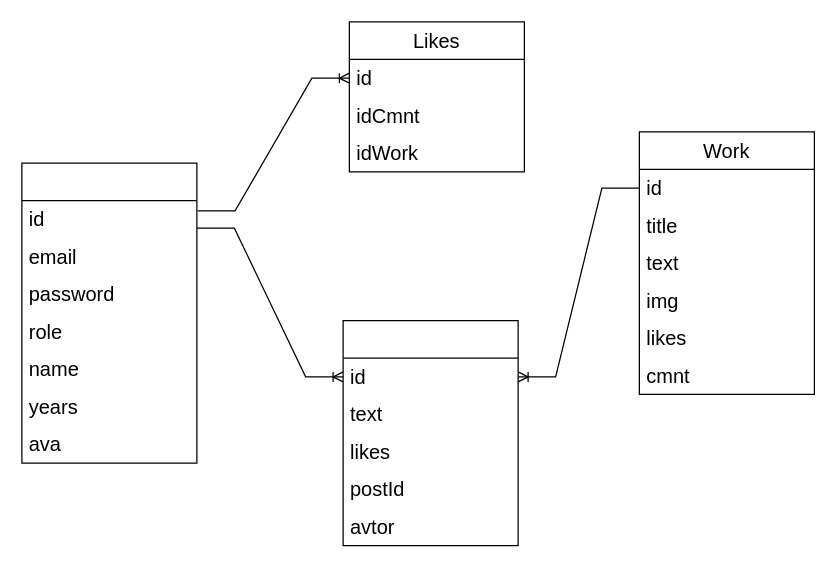
This 836x568 diagram has some shape labels left out. The box of each missing label's shape, as (x1, y1, x2, y2) in pixels:
Comment: (342, 319, 518, 546)
User: (21, 162, 197, 463)
